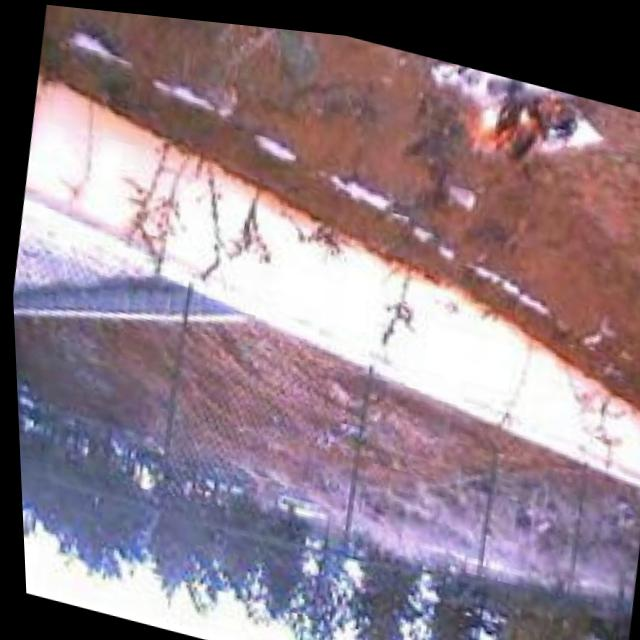Fire: (439, 53, 587, 178)
